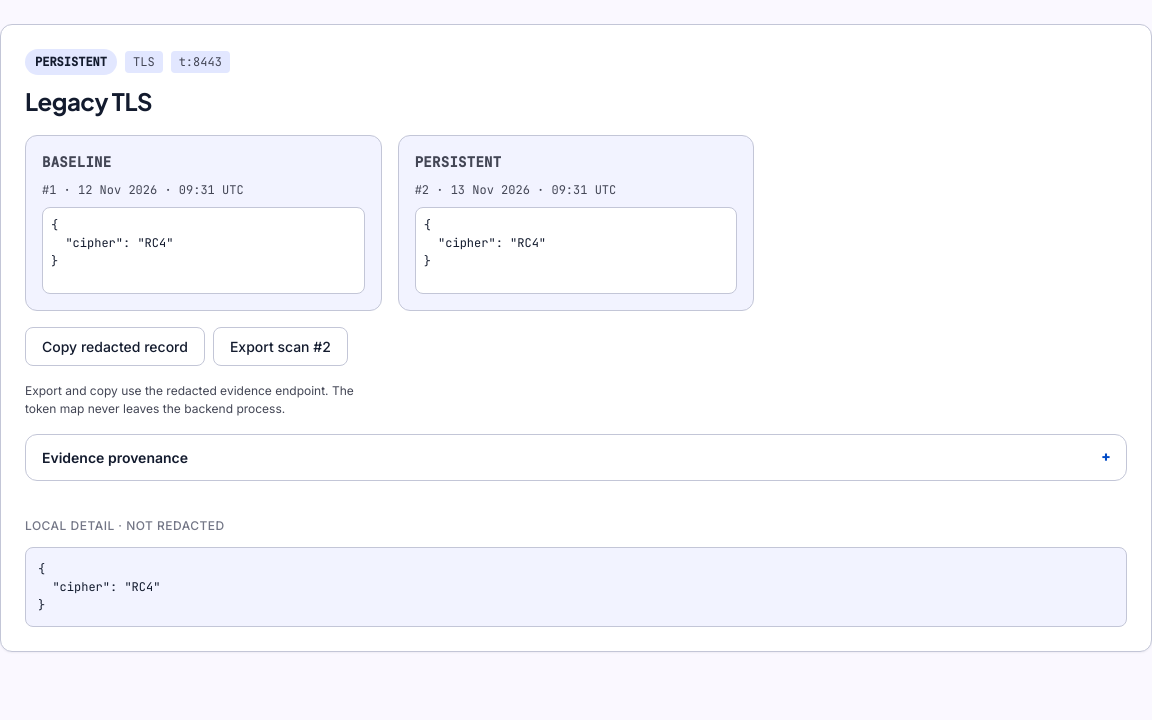
Test: EvidenceDetail › marks raw local detail and copies only the redacted record
The image size is (1152, 720).
Expected: the text "LOCAL DETAIL · NOT REDACTED" is shown, [25,518,225,533]
Expected: the element with class "detail-local" shows "RC4", [38,561,160,613]
Click the button "Copy redacted record" at (115, 346), box [25,327,205,366]
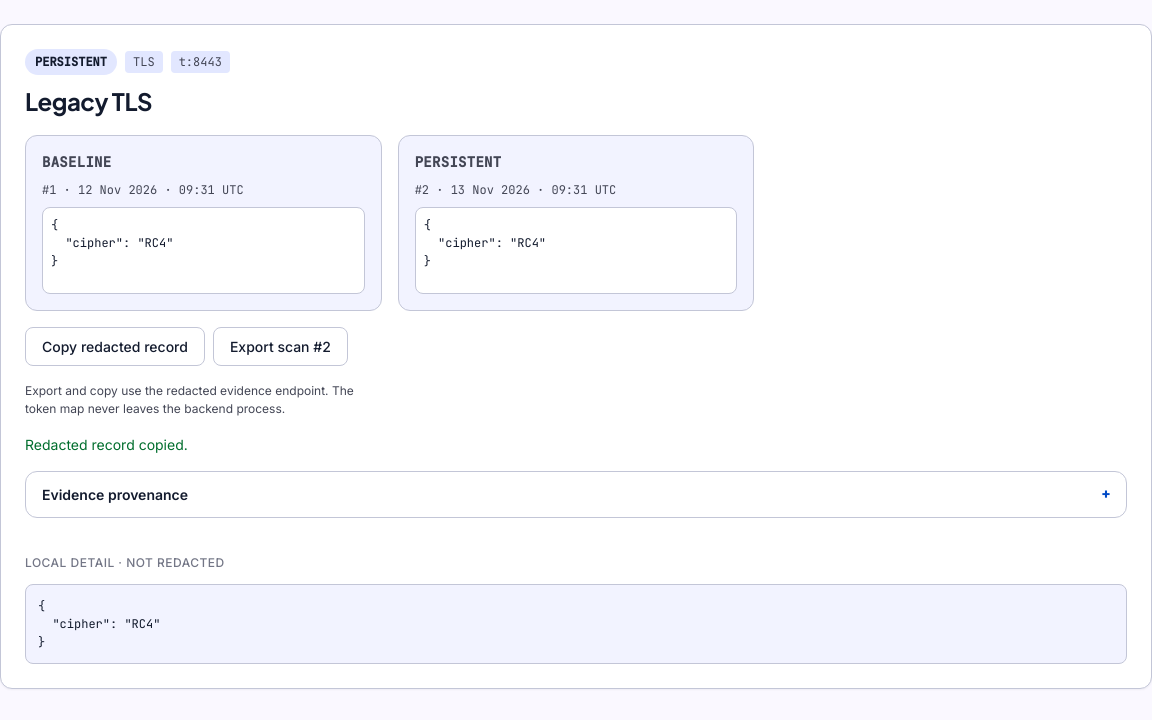
Expected: the message reads "Redacted record copied.", [25,436,188,453]
